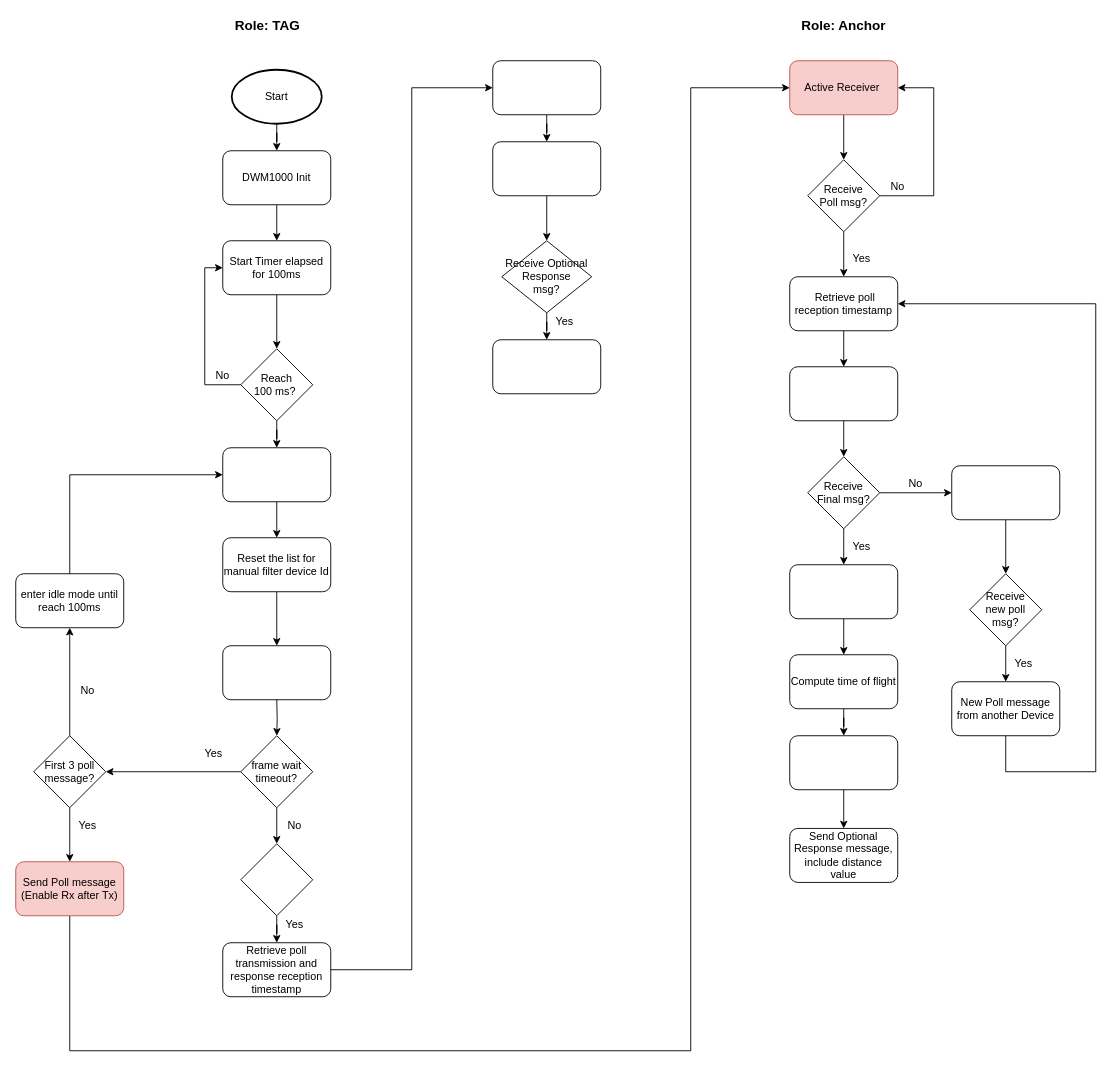
Image size: 1119x1074. Some labels were removed from this diagram. Each missing label, with the box of its shape:
Keep waiting (Receiver under active mode): (951, 465, 1060, 520)
process distance measurement data when every 0 seconds: (222, 447, 331, 502)
Range bias correction: (789, 735, 898, 790)
Receive Response msg?: (240, 843, 313, 916)
Retrieve response transmission and final reception timestamps: (789, 564, 898, 619)
Send Final Message (Enable Rx after Tx): (492, 141, 601, 196)
Send Response message (Enable Rx after Tx): (789, 366, 898, 421)
Store distance value & Record Device Id into manual filter list: (492, 339, 601, 394)
Transmit Poll message: (222, 645, 331, 700)
write all timestamps in the final message.: (492, 60, 601, 115)
